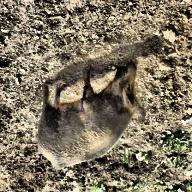boar: (33, 54, 155, 168)
